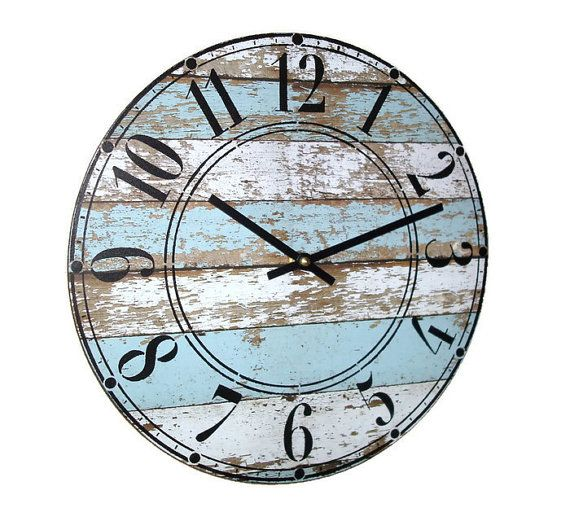clock: (71, 31, 488, 485)
